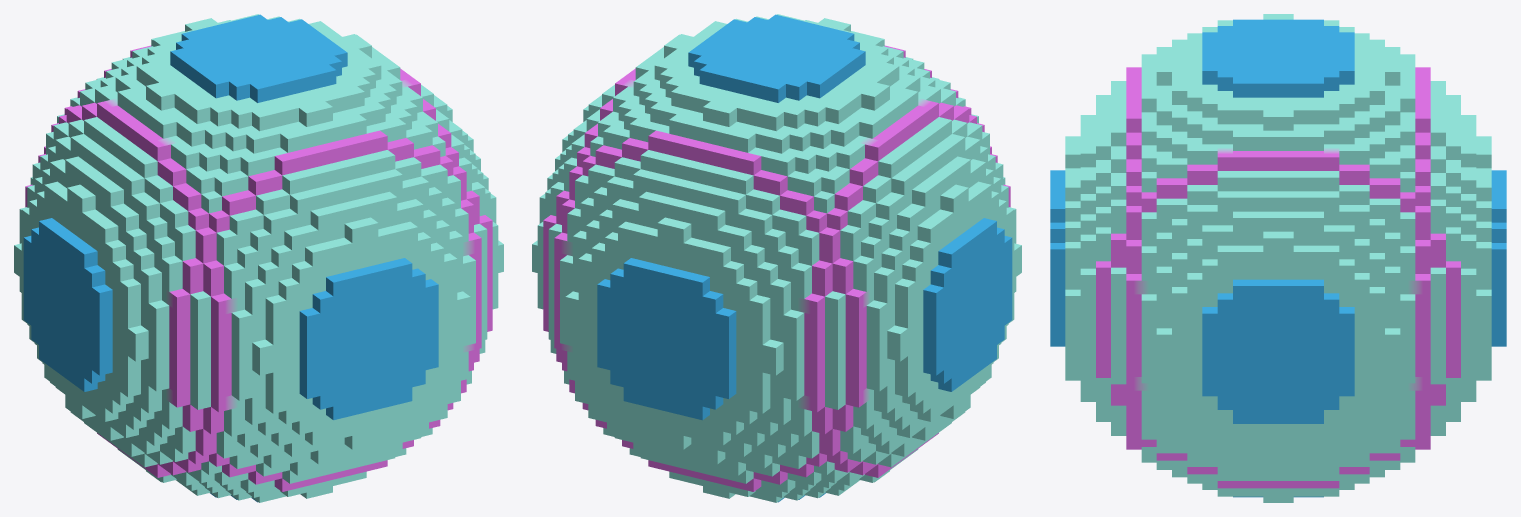
The model's file is Character_2.fbx.
3 views of the same model, side by side, from view 1: azimuth 30°, elevation 25°; view 2: azimuth 150°, elevation 25°; view 3: azimuth 270°, elevation 25° (orthographic).
Visible parts, largest first — view 1: Character_2; view 2: Character_2; view 3: Character_2.
Boxes of the visible parts, x1,y1,x2,y2 form: Character_2: (14,14,503,502); Character_2: (532,14,1021,502); Character_2: (1050,14,1506,502).
Size of the model in its own units: 30 by 30 by 30.
1 material, 1 textured.
